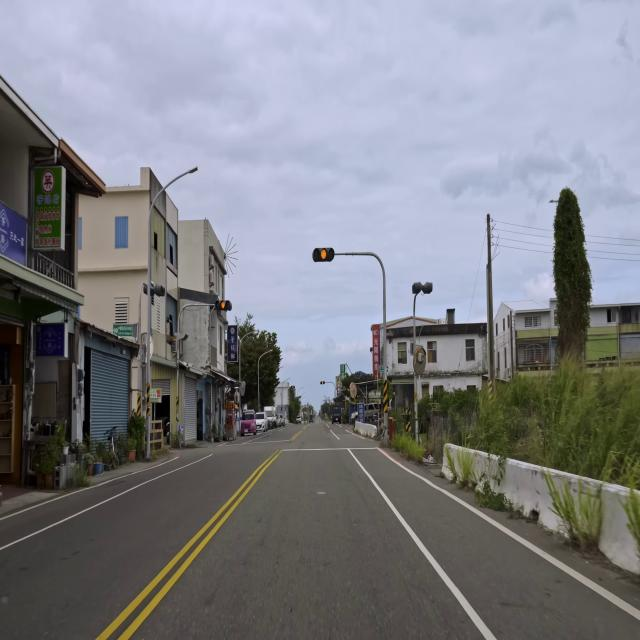yellow light: (311, 247, 335, 262), (215, 300, 231, 310)
